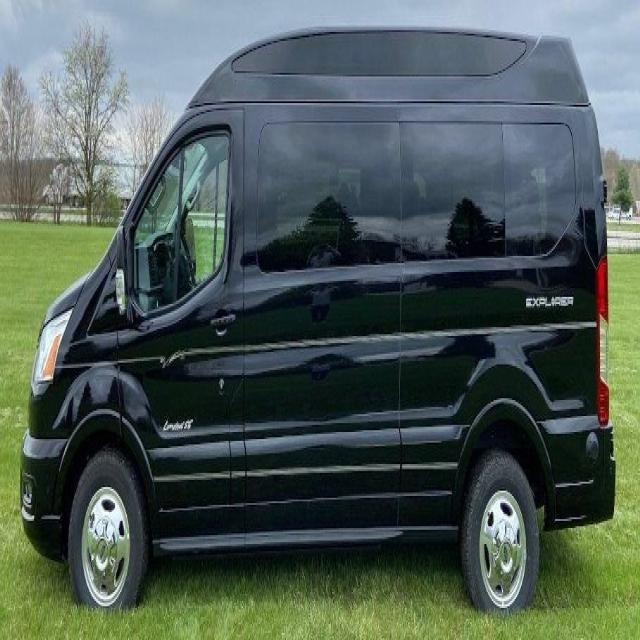Van: (18, 23, 616, 613)
